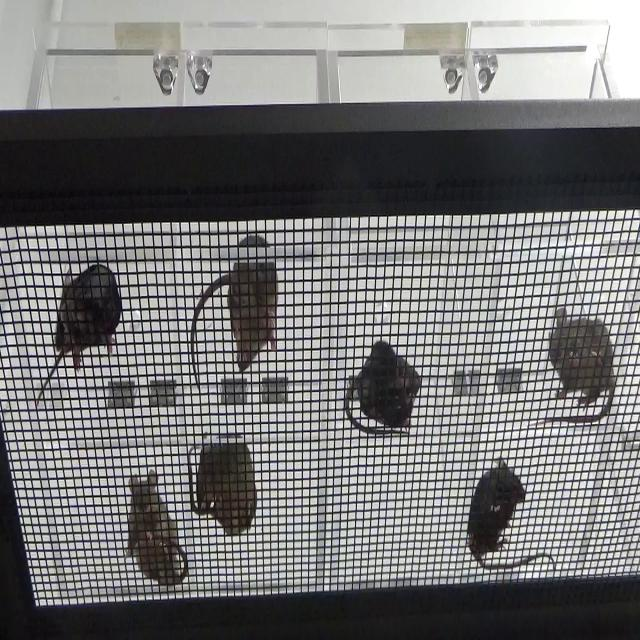scratch: (339, 324, 427, 454)
